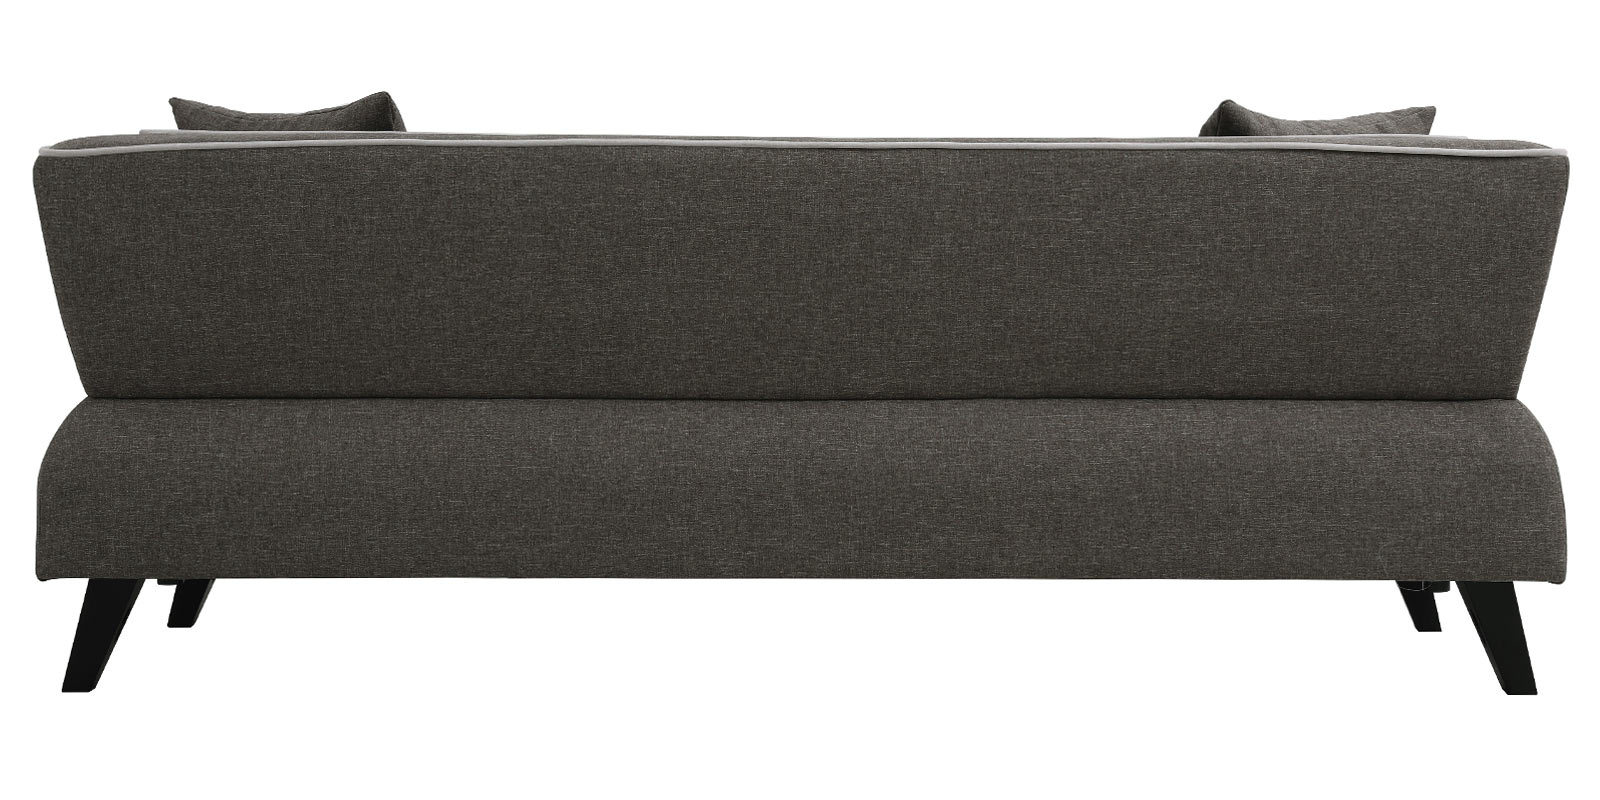Dime Three Seater Sofa in Grey Colour by Zofa: (29, 82, 1581, 734)
